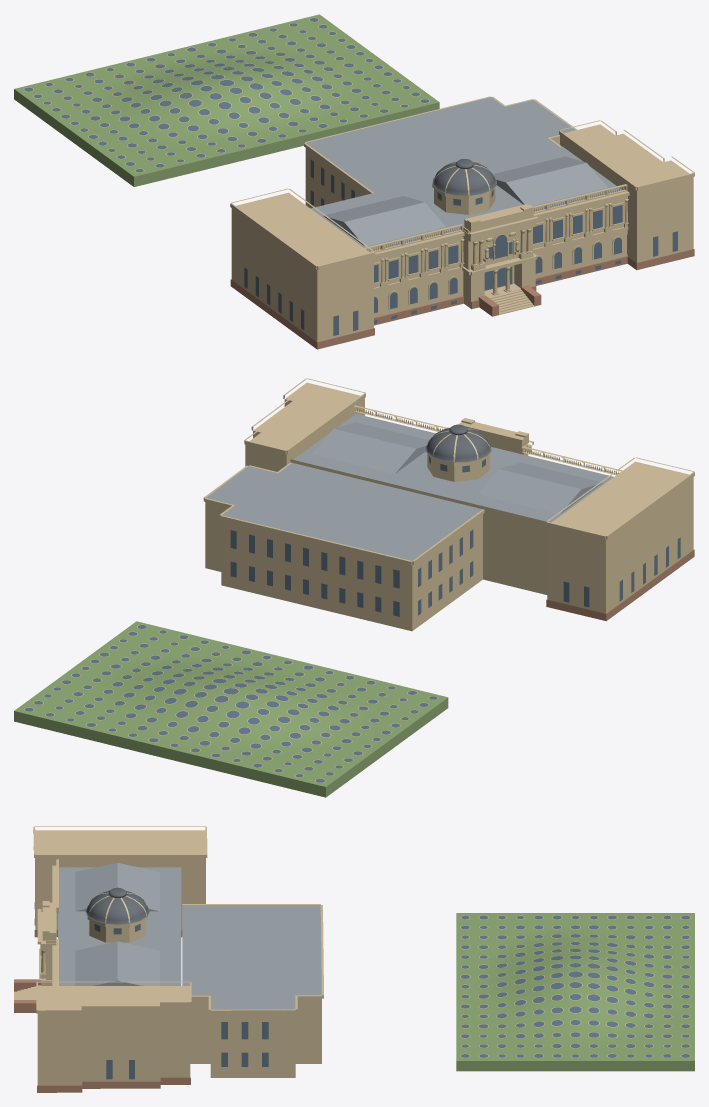
The model's file is frankfurt-staedel.detail.glb.
The picture shows the model from 3 angles, top to bottom: view 1: azimuth 30°, elevation 25°; view 2: azimuth 150°, elevation 25°; view 3: azimuth 270°, elevation 25°; orthographic projection. The views are drawn at different scales.
Parts seen in each view (by area): view 1: Städel Museum; view 2: Städel Museum; view 3: Städel Museum.
Boxes of the visible parts, x1,y1,x2,y2 form: Städel Museum: (14, 14, 694, 349); Städel Museum: (14, 378, 694, 797); Städel Museum: (14, 826, 694, 1092).
Size of the model in its own units: 77.5 by 21.6 by 121.
